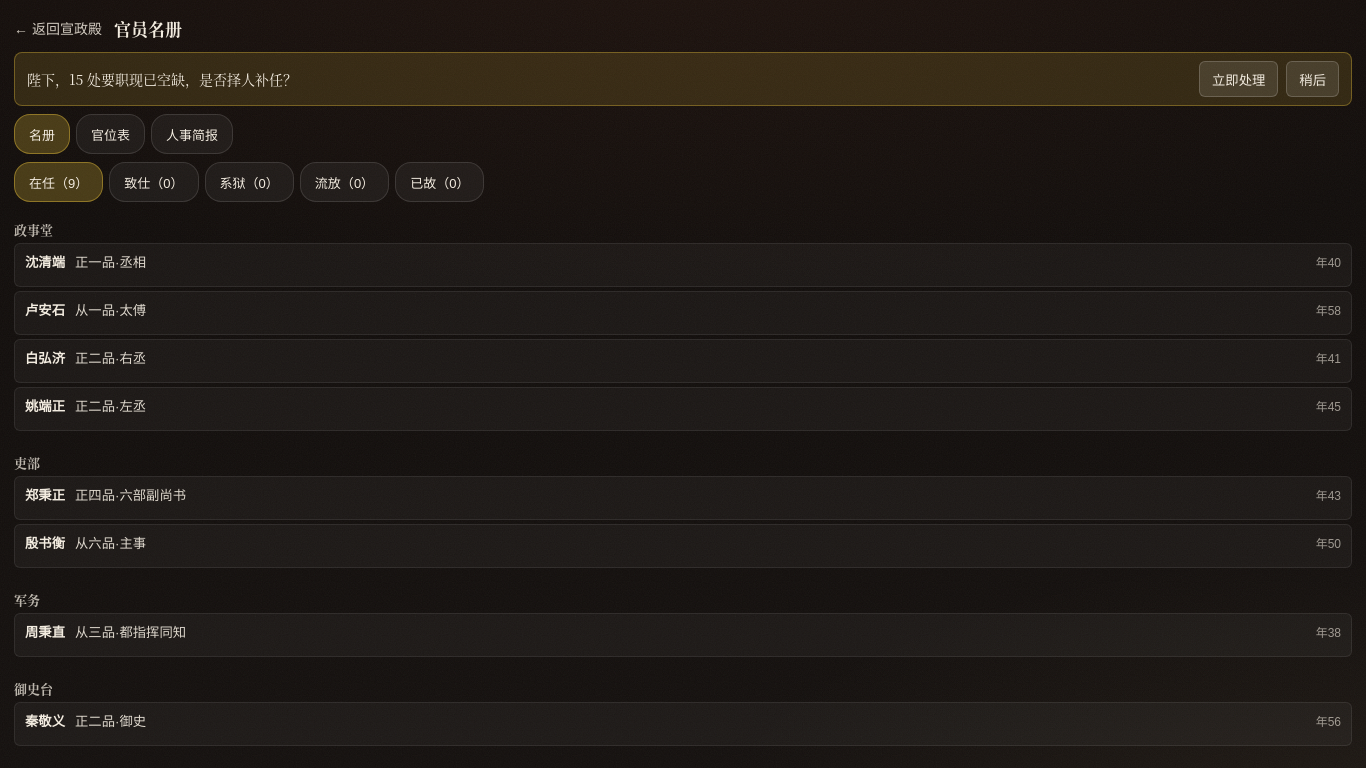
it: OfficialsScreen — roster + filters › switching to 已故 shows an explicit empty state
Click the button "已故（0）".
click(440, 182)  # box [395, 162, 484, 202]
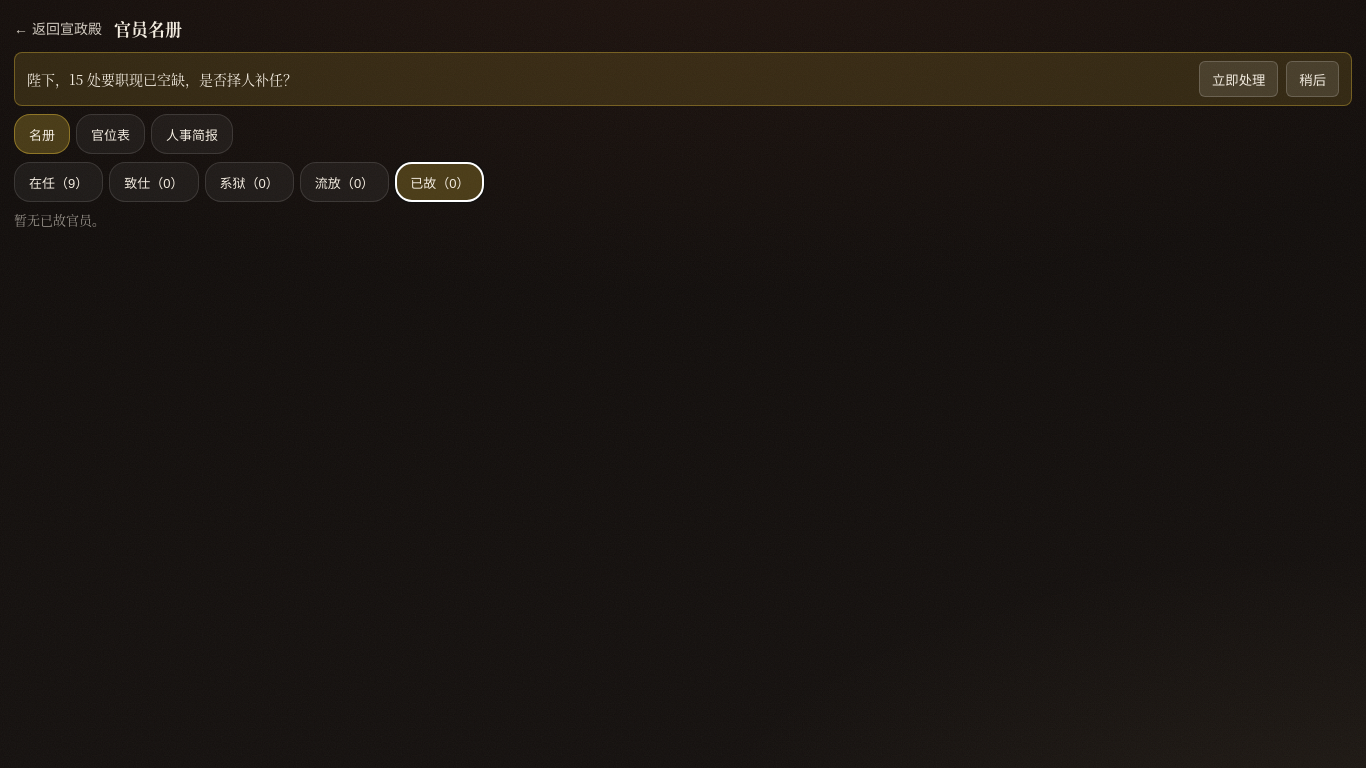
Expected: the text "暂无已故官员。" is shown, [14, 210, 105, 229]
